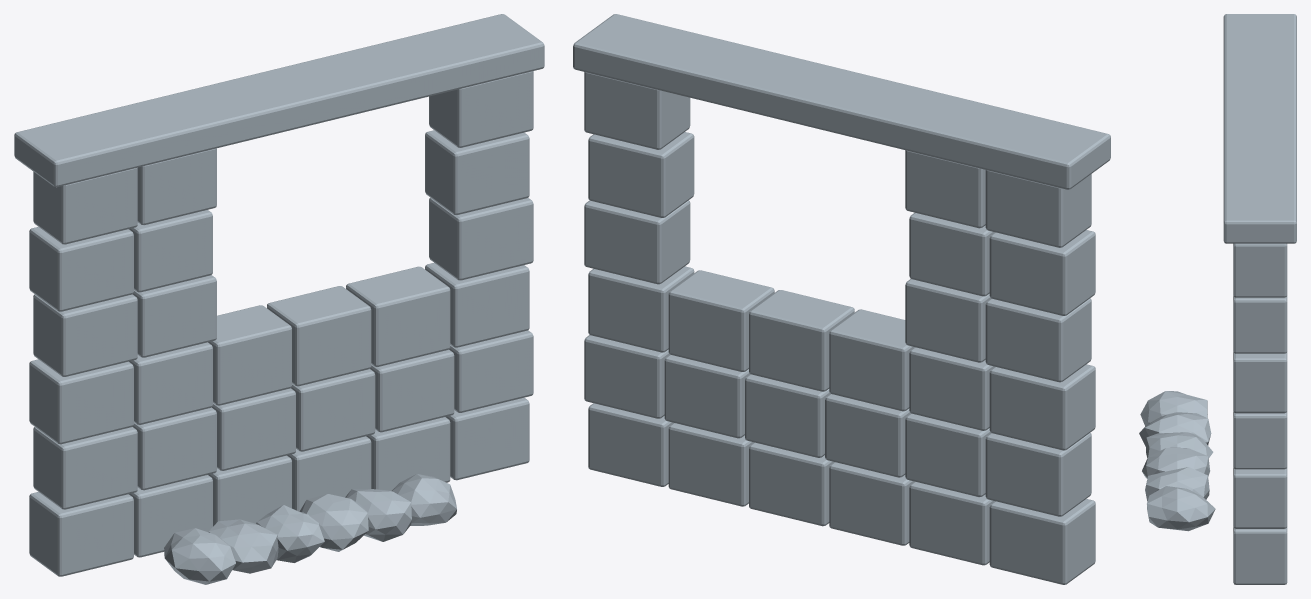
The model's file is a3_wall_broken.glb.
3 renders of one model, left to right at view 1: azimuth 30°, elevation 25°; view 2: azimuth 150°, elevation 25°; view 3: azimuth 270°, elevation 25°, orthographic. The views are drawn at different scales.
Visible parts, largest first — view 1: Body.022; view 2: Body.022; view 3: Body.022.
Boxes of the visible parts, left/top/right/bottom form: Body.022: left=14, top=14, right=544, bottom=584; Body.022: left=573, top=14, right=1110, bottom=584; Body.022: left=1139, top=14, right=1296, bottom=584.
Size of the model in its own units: 3.1 by 2.58 by 0.991.
